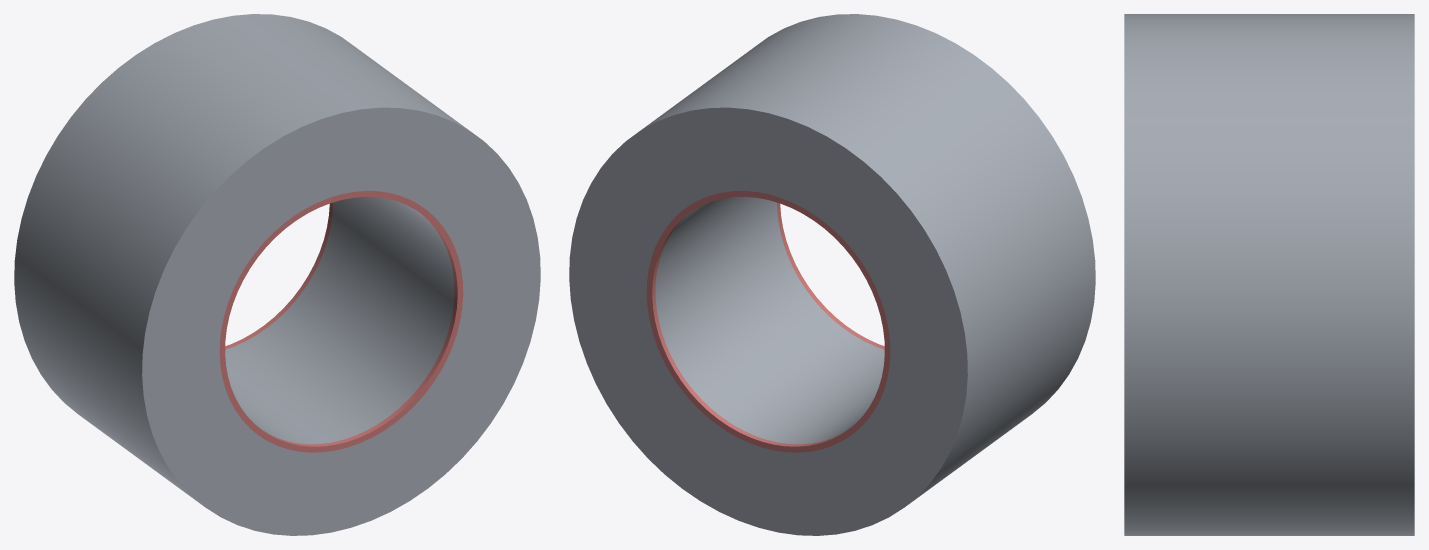
File: step_03.glb
3 renders of one model, left to right at view 1: azimuth 30°, elevation 25°; view 2: azimuth 150°, elevation 25°; view 3: azimuth 270°, elevation 25°, orthographic. The views are drawn at different scales.
Parts seen in each view (by area): view 1: part__Housing, removed__Housing; view 2: part__Housing, removed__Housing; view 3: part__Housing.
Boxes of the visible parts, left/top/right/bottom form: part__Housing: left=14, top=14, right=540, bottom=535; removed__Housing: left=219, top=191, right=463, bottom=452; part__Housing: left=569, top=14, right=1095, bottom=535; removed__Housing: left=646, top=191, right=890, bottom=452; part__Housing: left=1124, top=14, right=1414, bottom=535.
Size of the model in its own units: 71.98 by 71.96 by 40.
